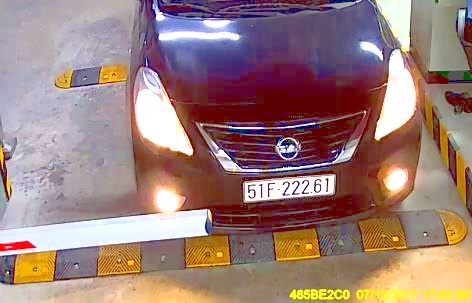plate: (242, 173, 337, 206)
